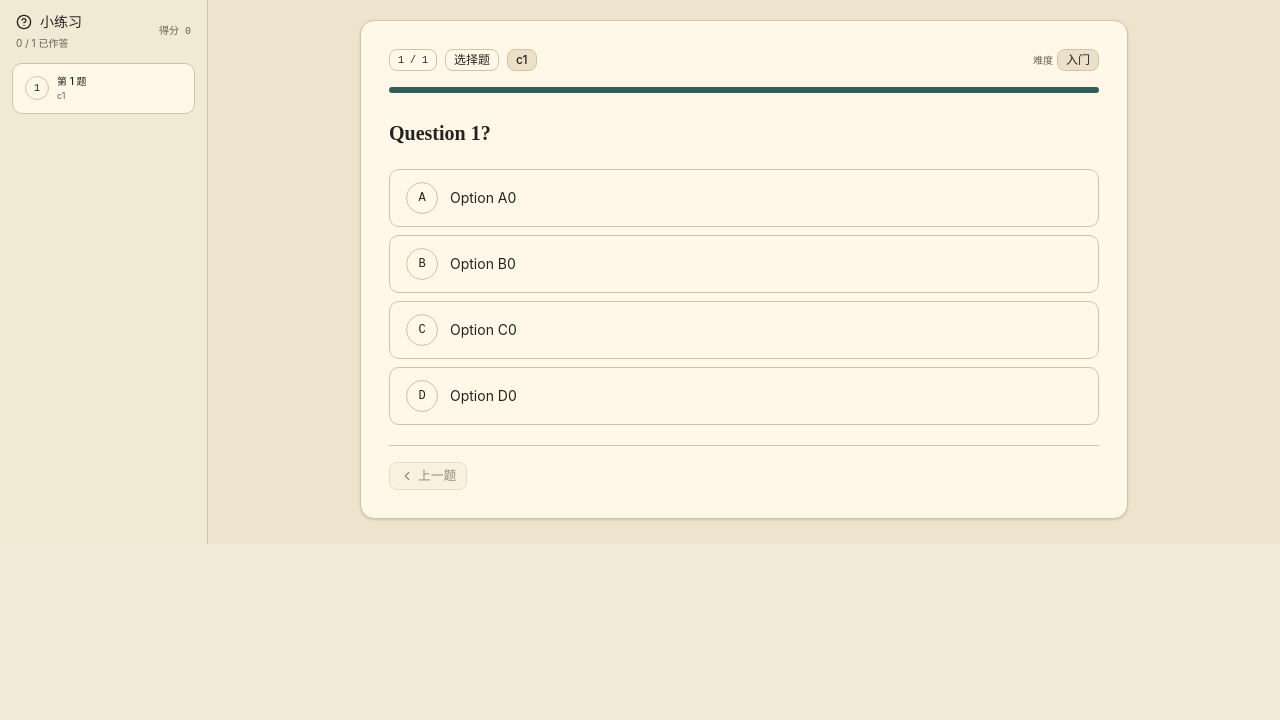
Scenario: QuizPanel › shows completion screen after last question
Click the button "A Option A0" at (422, 198), box [389,169,1099,227]
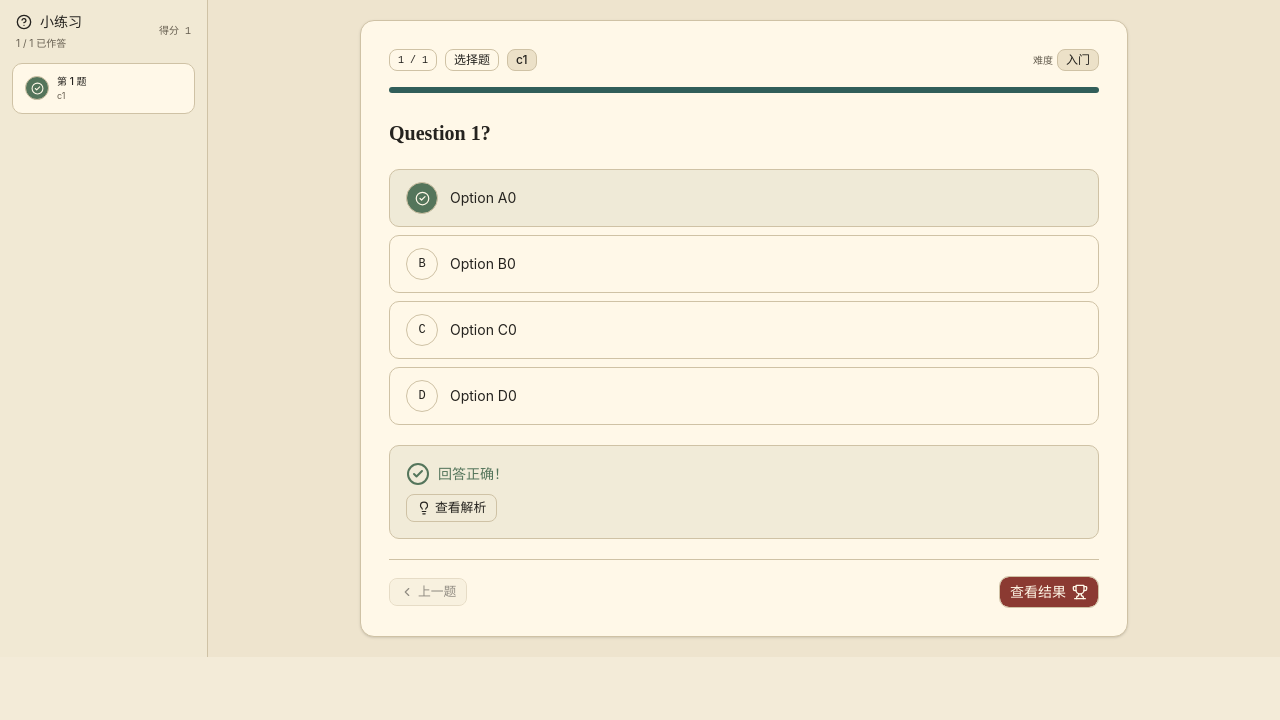
Click the button "查看结果" at (1049, 592), box [999,576,1099,608]
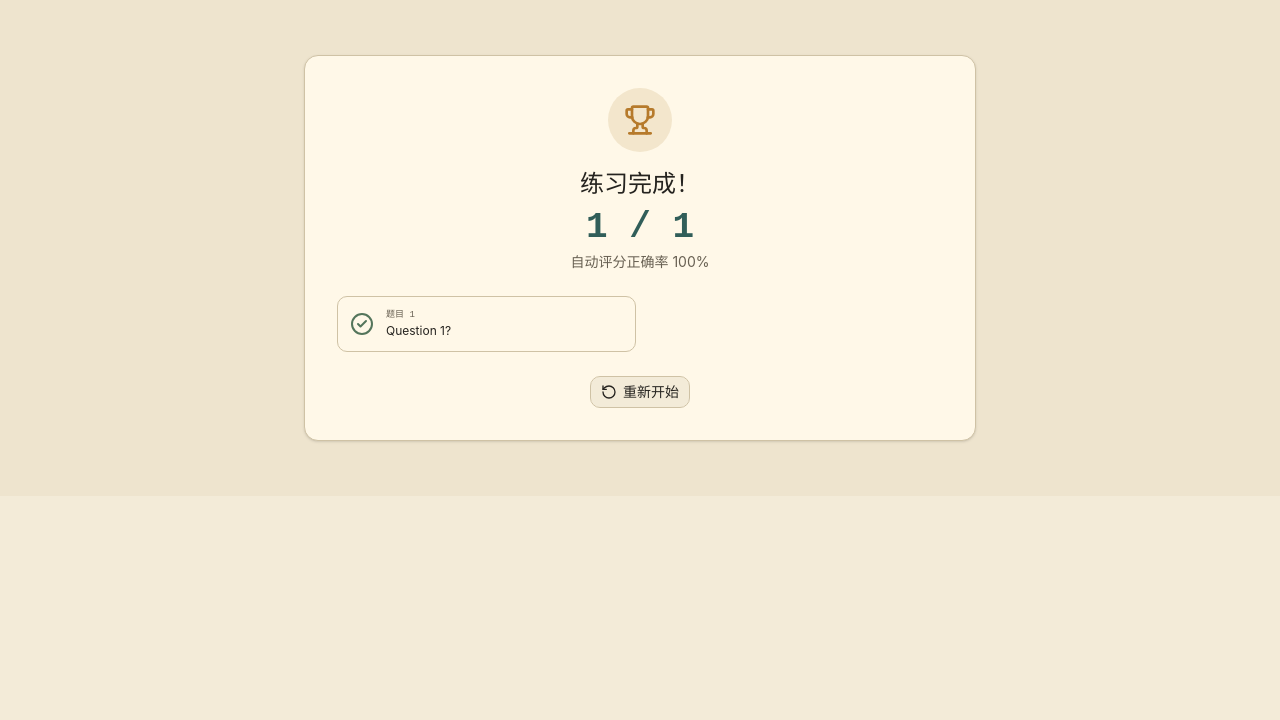
Expected: the heading "练习完成！" is shown, [580,171,700,197]
Expected: the button "重新开始" is shown, [590,376,690,408]
